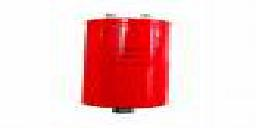Electrolytic-Capacitor: (80, 10, 177, 128)
